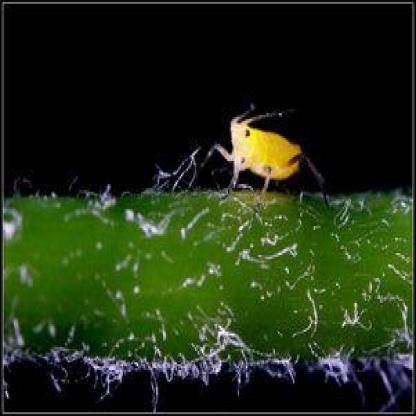aphid: (205, 102, 332, 218)
